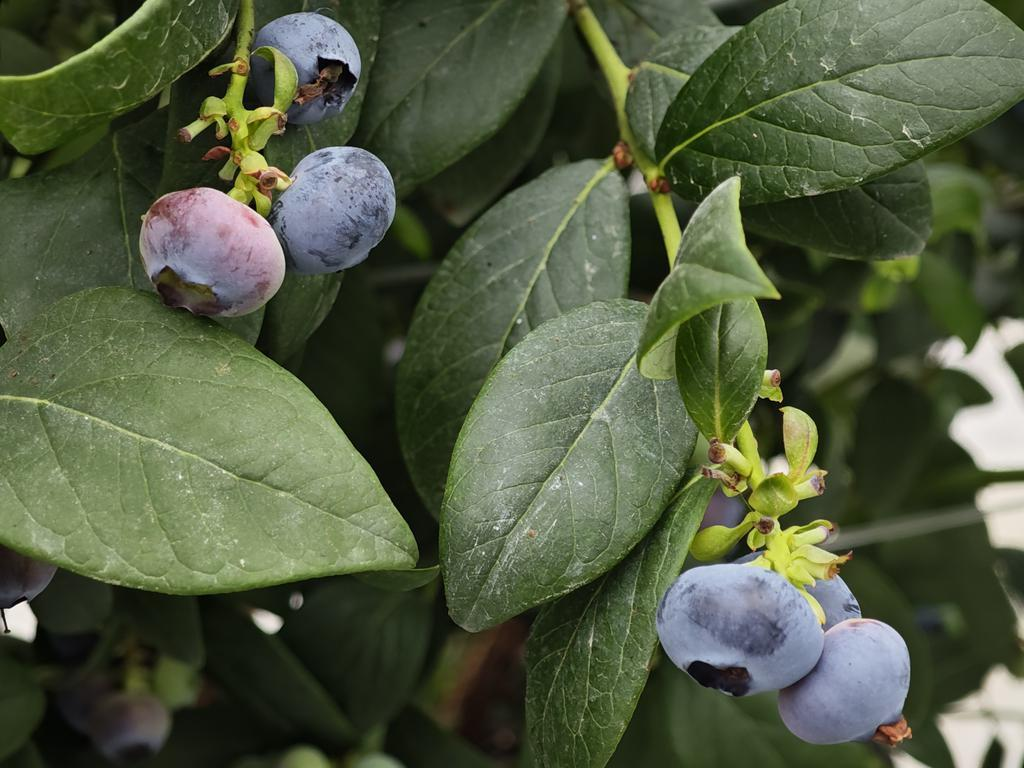RipeBlueBerry: (660, 560, 822, 706), (279, 144, 398, 276), (787, 621, 914, 744), (258, 12, 363, 126)
Semi-RipeBlueBerry: (137, 188, 281, 318)
